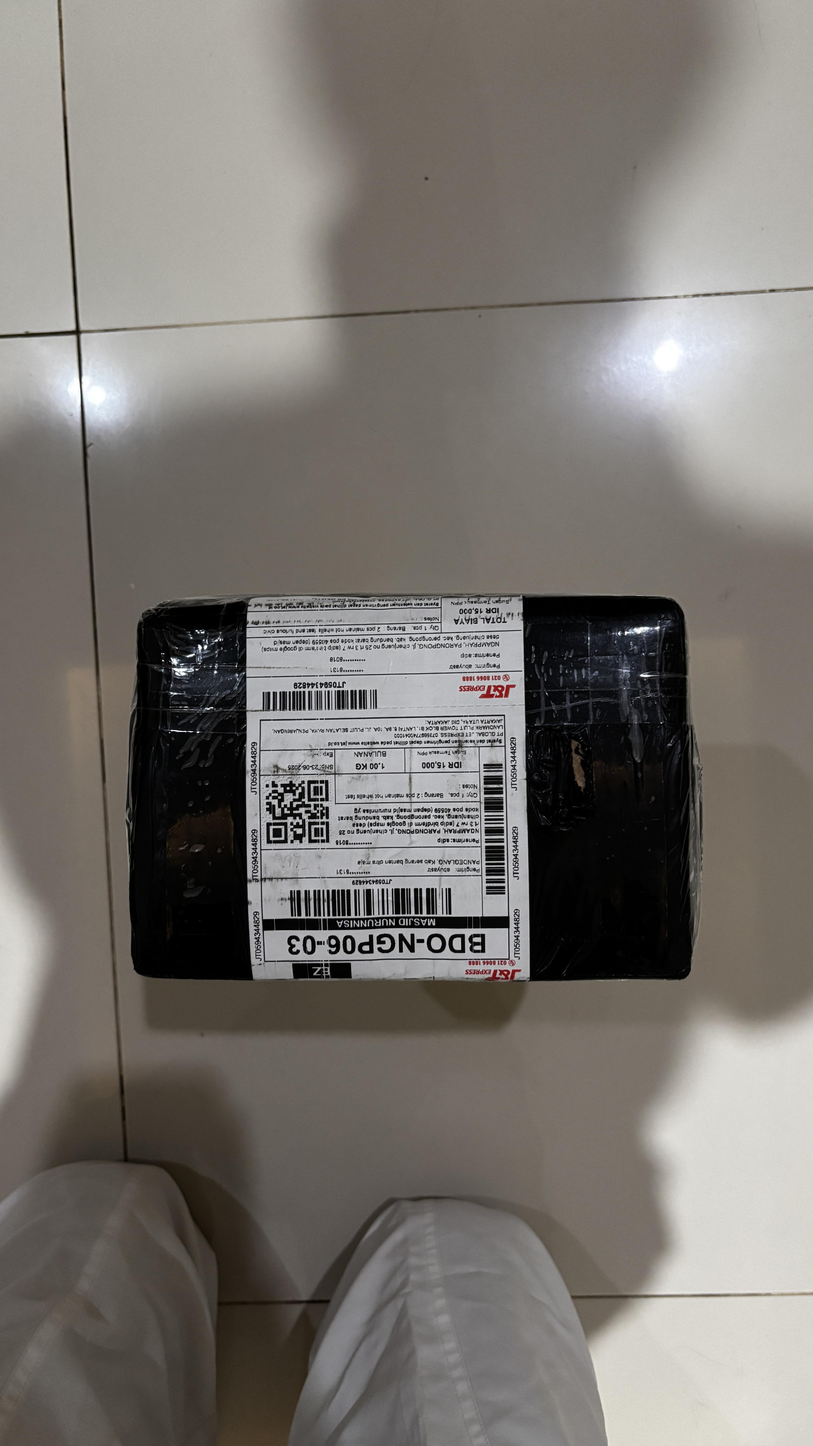damaged package: (564, 724, 592, 798)
undamaged: (111, 586, 718, 992)
